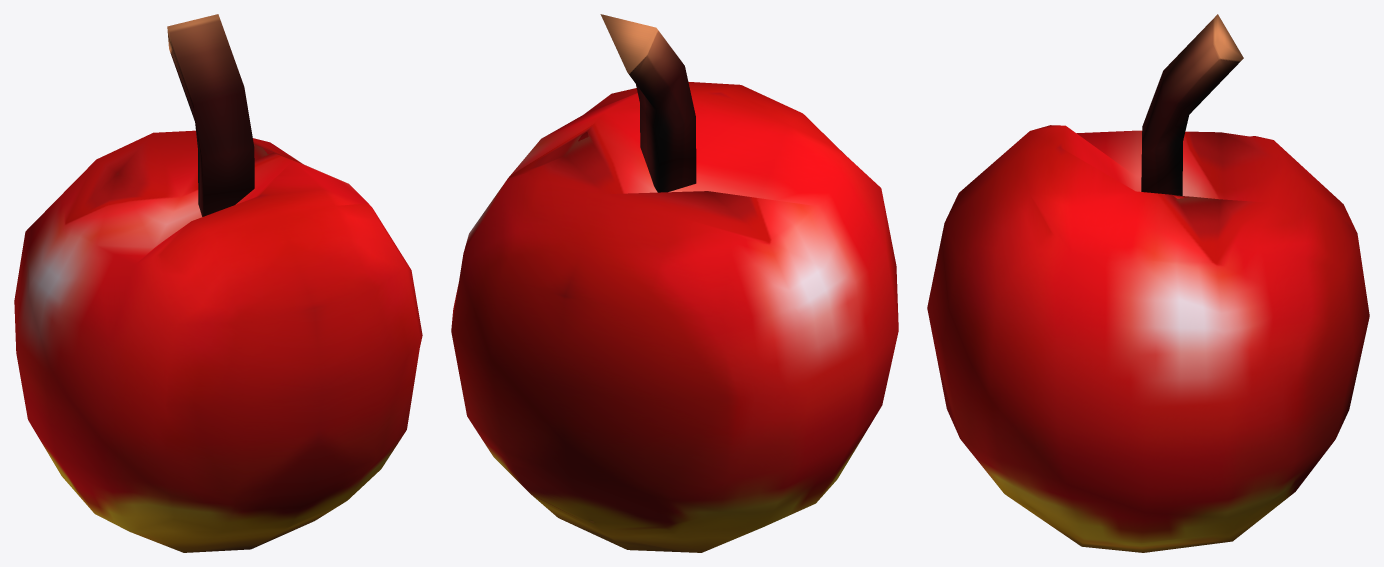
The model's file is manzana.fbx.
3 renders of one model, left to right at view 1: azimuth 30°, elevation 25°; view 2: azimuth 150°, elevation 25°; view 3: azimuth 270°, elevation 25°, orthographic. The views are drawn at different scales.
Visible parts, largest first — view 1: Cube.003; view 2: Cube.003; view 3: Cube.003.
Boxes of the visible parts, x1,y1,x2,y2 form: Cube.003: [14, 14, 422, 552]; Cube.003: [451, 14, 898, 552]; Cube.003: [927, 14, 1369, 552].
Bounding box in the file's own units: 84.01 × 79.99 × 106.
